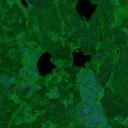alloviz: (35, 50, 58, 77), (74, 1, 98, 22), (70, 47, 92, 69), (19, 1, 29, 8)
